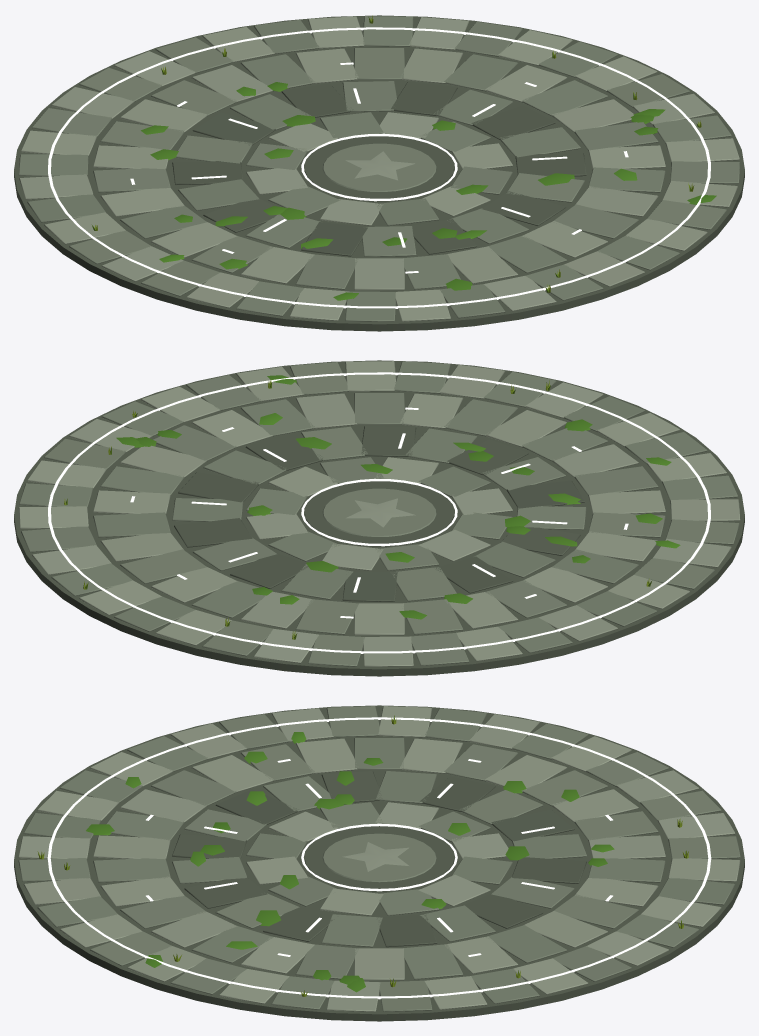
Rendered from mt_floor_1.glb.
The picture shows the model from 3 angles, top to bottom: view 1: azimuth 30°, elevation 25°; view 2: azimuth 150°, elevation 25°; view 3: azimuth 270°, elevation 25°; orthographic projection.
Parts seen in each view (by area): view 1: body, rune_glow; view 2: body, rune_glow; view 3: body, rune_glow.
Part boxes in pixels (left/top/right/bottom): body: left=14, top=15, right=744, bottom=331; rune_glow: left=48, top=27, right=710, bottom=308; body: left=14, top=360, right=744, bottom=676; rune_glow: left=48, top=372, right=710, bottom=653; body: left=14, top=705, right=744, bottom=1021; rune_glow: left=47, top=717, right=711, bottom=999.
Size of the model in its own units: 33.2 by 0.8714 by 33.2.
